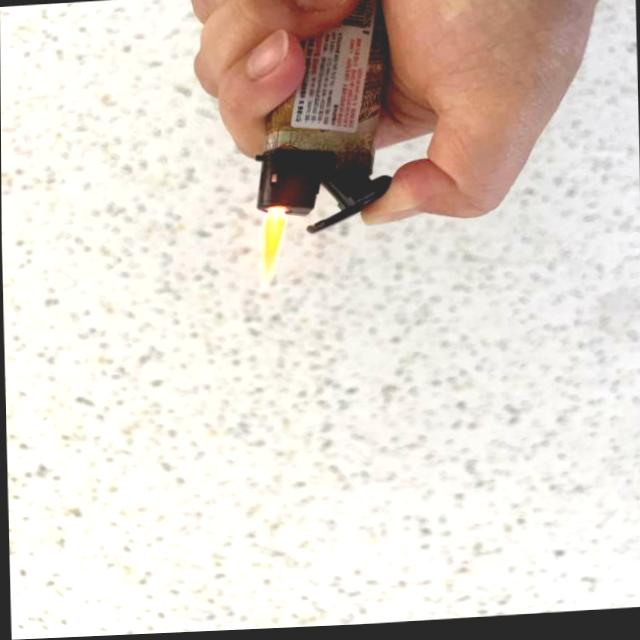Fire: (257, 215, 287, 282)
